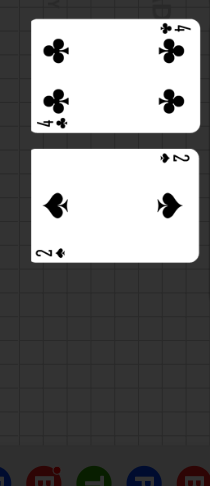2S: (34, 246, 68, 260)
4C: (157, 22, 191, 37)
